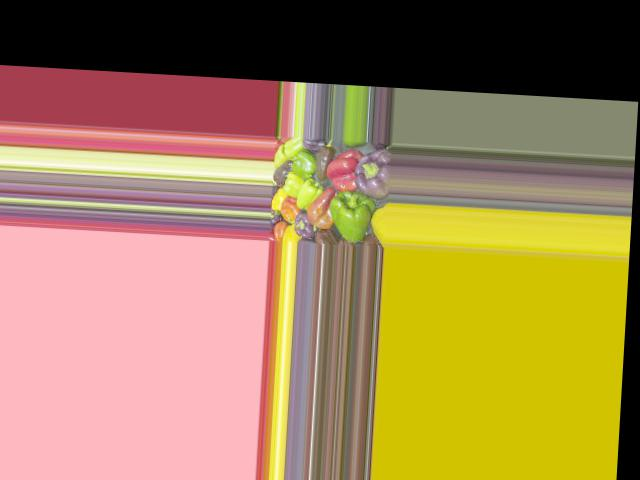bell_pepper: (289, 211, 316, 240)
